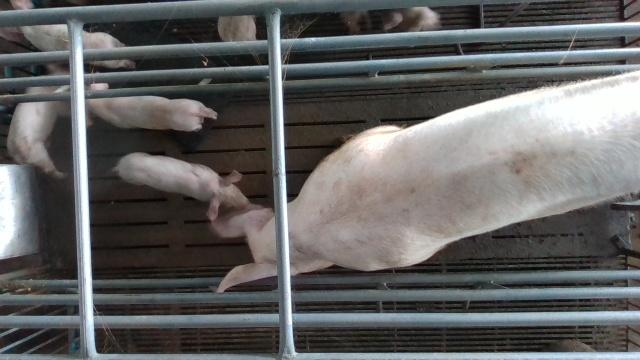piglet: (112, 153, 252, 221), (0, 0, 136, 70), (52, 83, 218, 132), (7, 63, 70, 179)
sow-stand: (210, 67, 640, 293)
